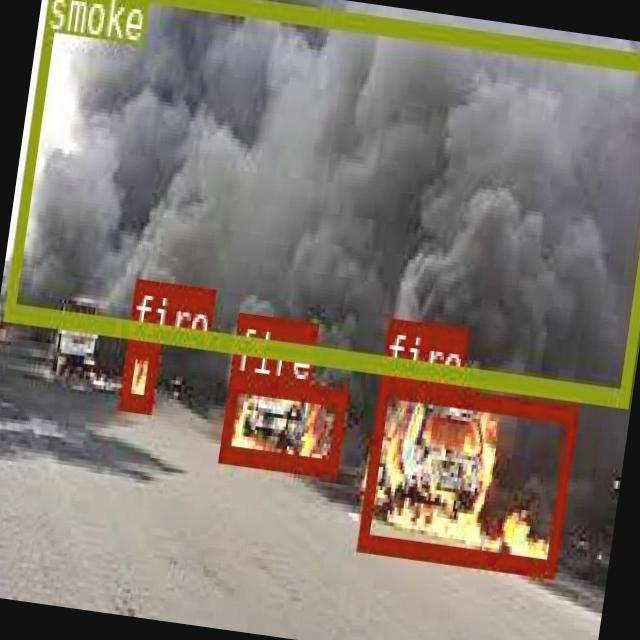fire: (356, 376, 576, 576), (218, 369, 348, 473), (117, 337, 158, 411)
smoke: (2, 0, 640, 402)
